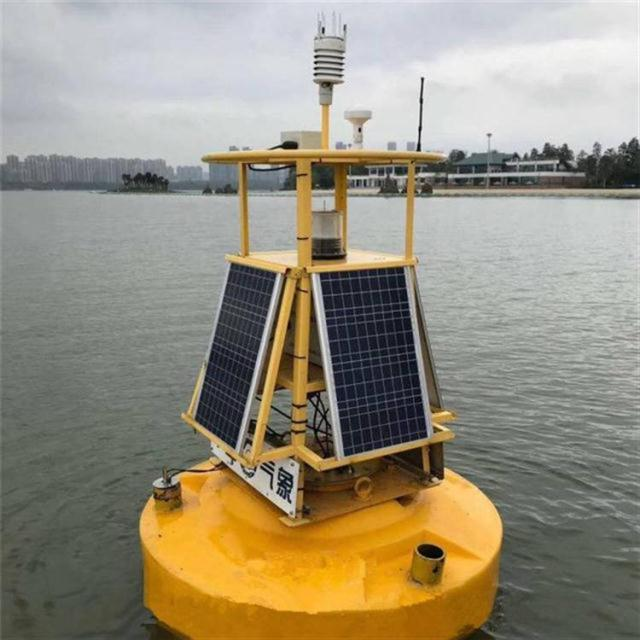buoy: (135, 15, 504, 640)
